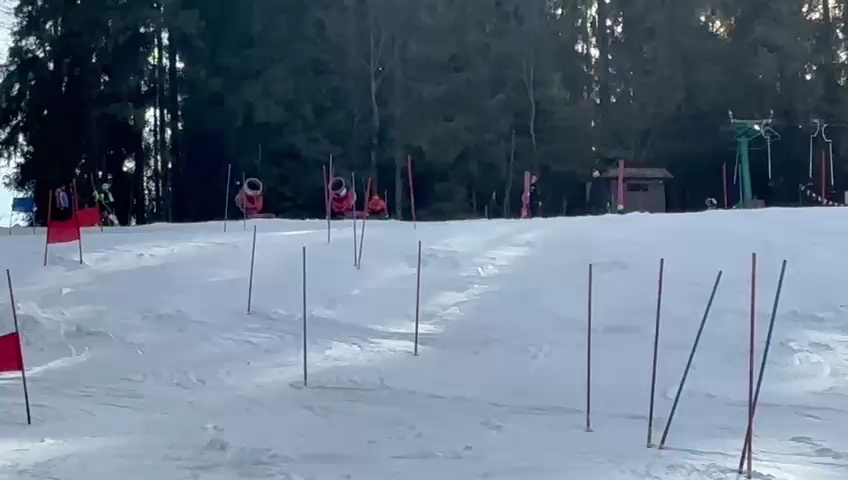gate: (657, 260, 728, 457), (739, 247, 788, 480), (0, 264, 41, 429), (646, 250, 665, 450), (579, 257, 599, 435), (296, 243, 317, 390), (409, 235, 430, 356), (354, 170, 373, 274), (66, 177, 86, 266), (244, 220, 261, 316), (320, 153, 336, 245), (40, 184, 58, 265), (92, 161, 111, 236), (348, 169, 361, 273), (405, 152, 421, 229), (217, 160, 233, 231), (718, 159, 732, 215), (239, 169, 251, 229)
